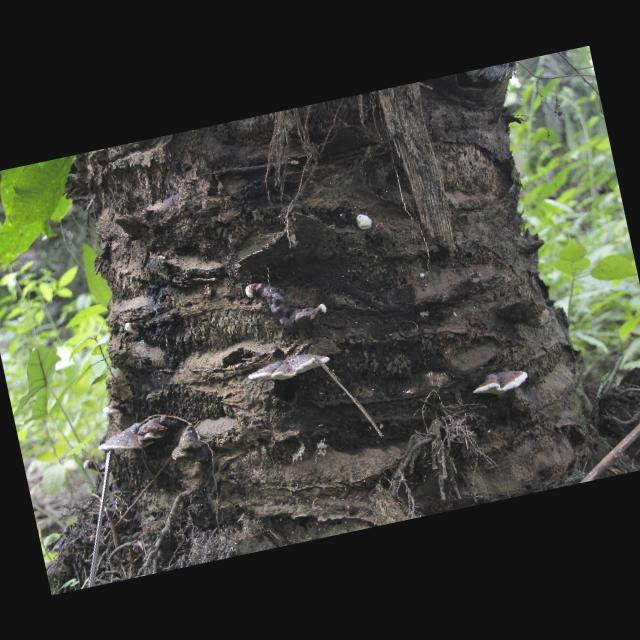ganoderma: (257, 274, 321, 340), (246, 349, 332, 389), (470, 366, 532, 402), (95, 421, 152, 458), (136, 414, 179, 443), (102, 401, 128, 416)
primordium: (355, 213, 374, 233), (124, 320, 142, 338), (245, 283, 260, 300), (82, 459, 97, 473), (319, 304, 330, 317), (420, 273, 426, 280)
